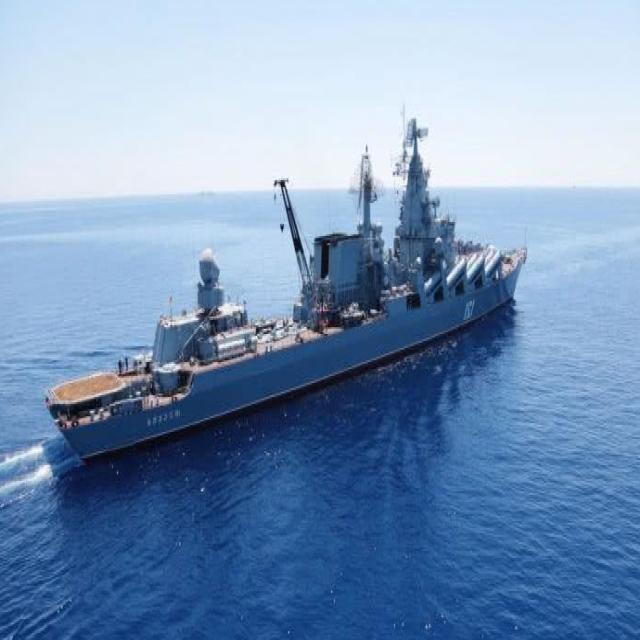navalvessels: (36, 87, 534, 496)
